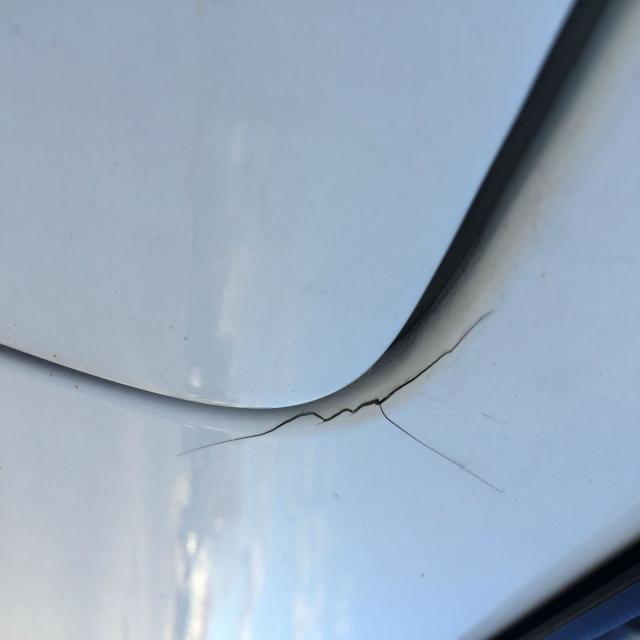crack: (173, 299, 589, 527)
